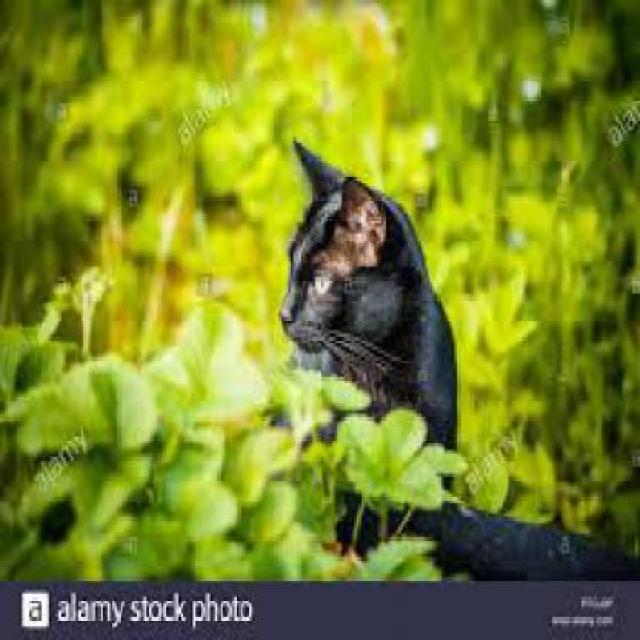animals: (256, 133, 462, 461)
